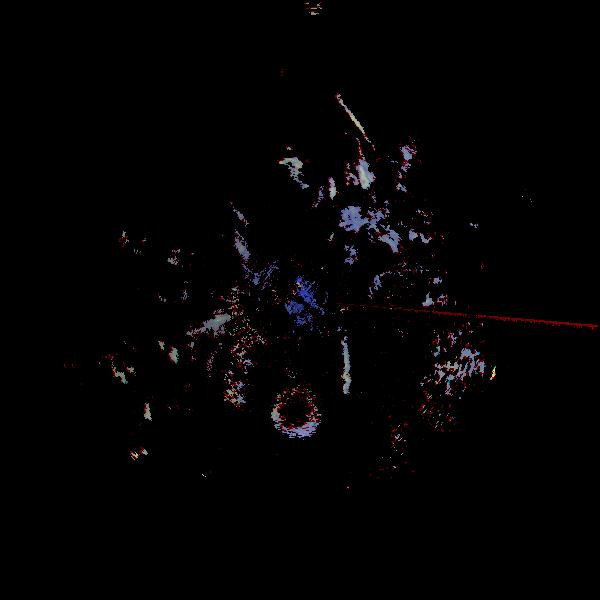roost: (267, 381, 330, 444)
